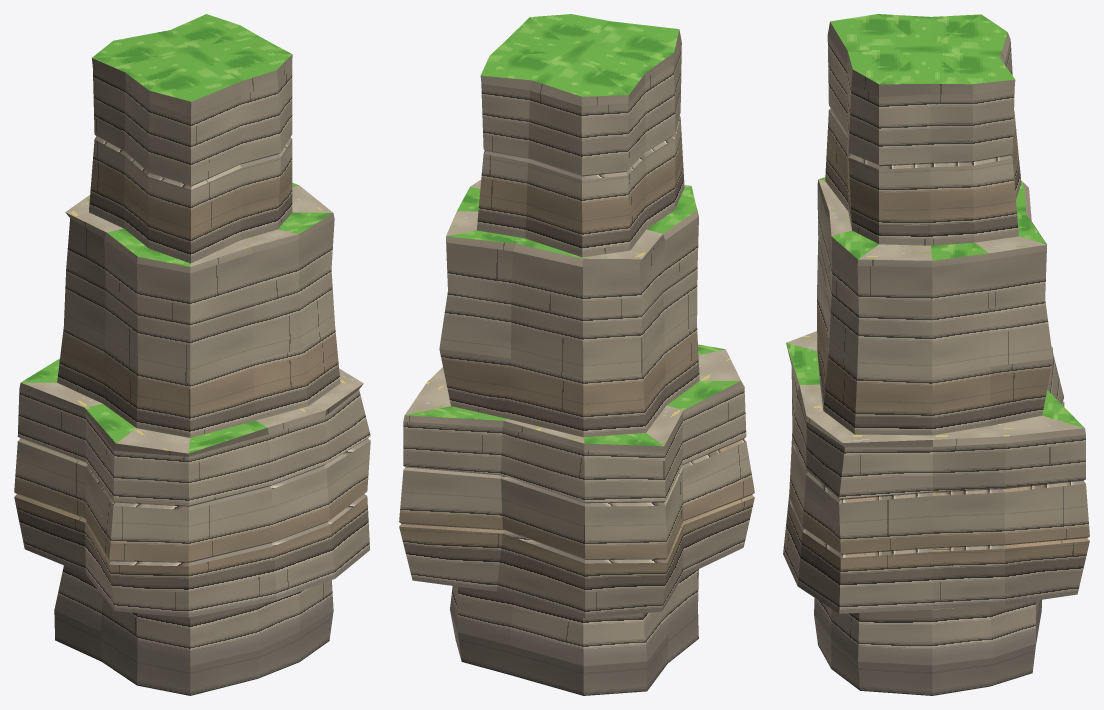
The model's file is p_bi_stack_a.glb.
The picture shows the model from 3 angles, left to right: view 1: azimuth 30°, elevation 25°; view 2: azimuth 150°, elevation 25°; view 3: azimuth 270°, elevation 25°; orthographic projection.
Visible parts, largest first — view 1: p_bi_stack_a_lod0; view 2: p_bi_stack_a_lod0; view 3: p_bi_stack_a_lod0.
Boxes of the visible parts, left/top/right/bottom form: p_bi_stack_a_lod0: left=14, top=14, right=370, bottom=695; p_bi_stack_a_lod0: left=399, top=14, right=754, bottom=695; p_bi_stack_a_lod0: left=783, top=14, right=1089, bottom=695.
Size of what is drawn, in the model's own units: 7.36 by 15.51 by 7.26.
Materials: 1 (1 with a texture image).
